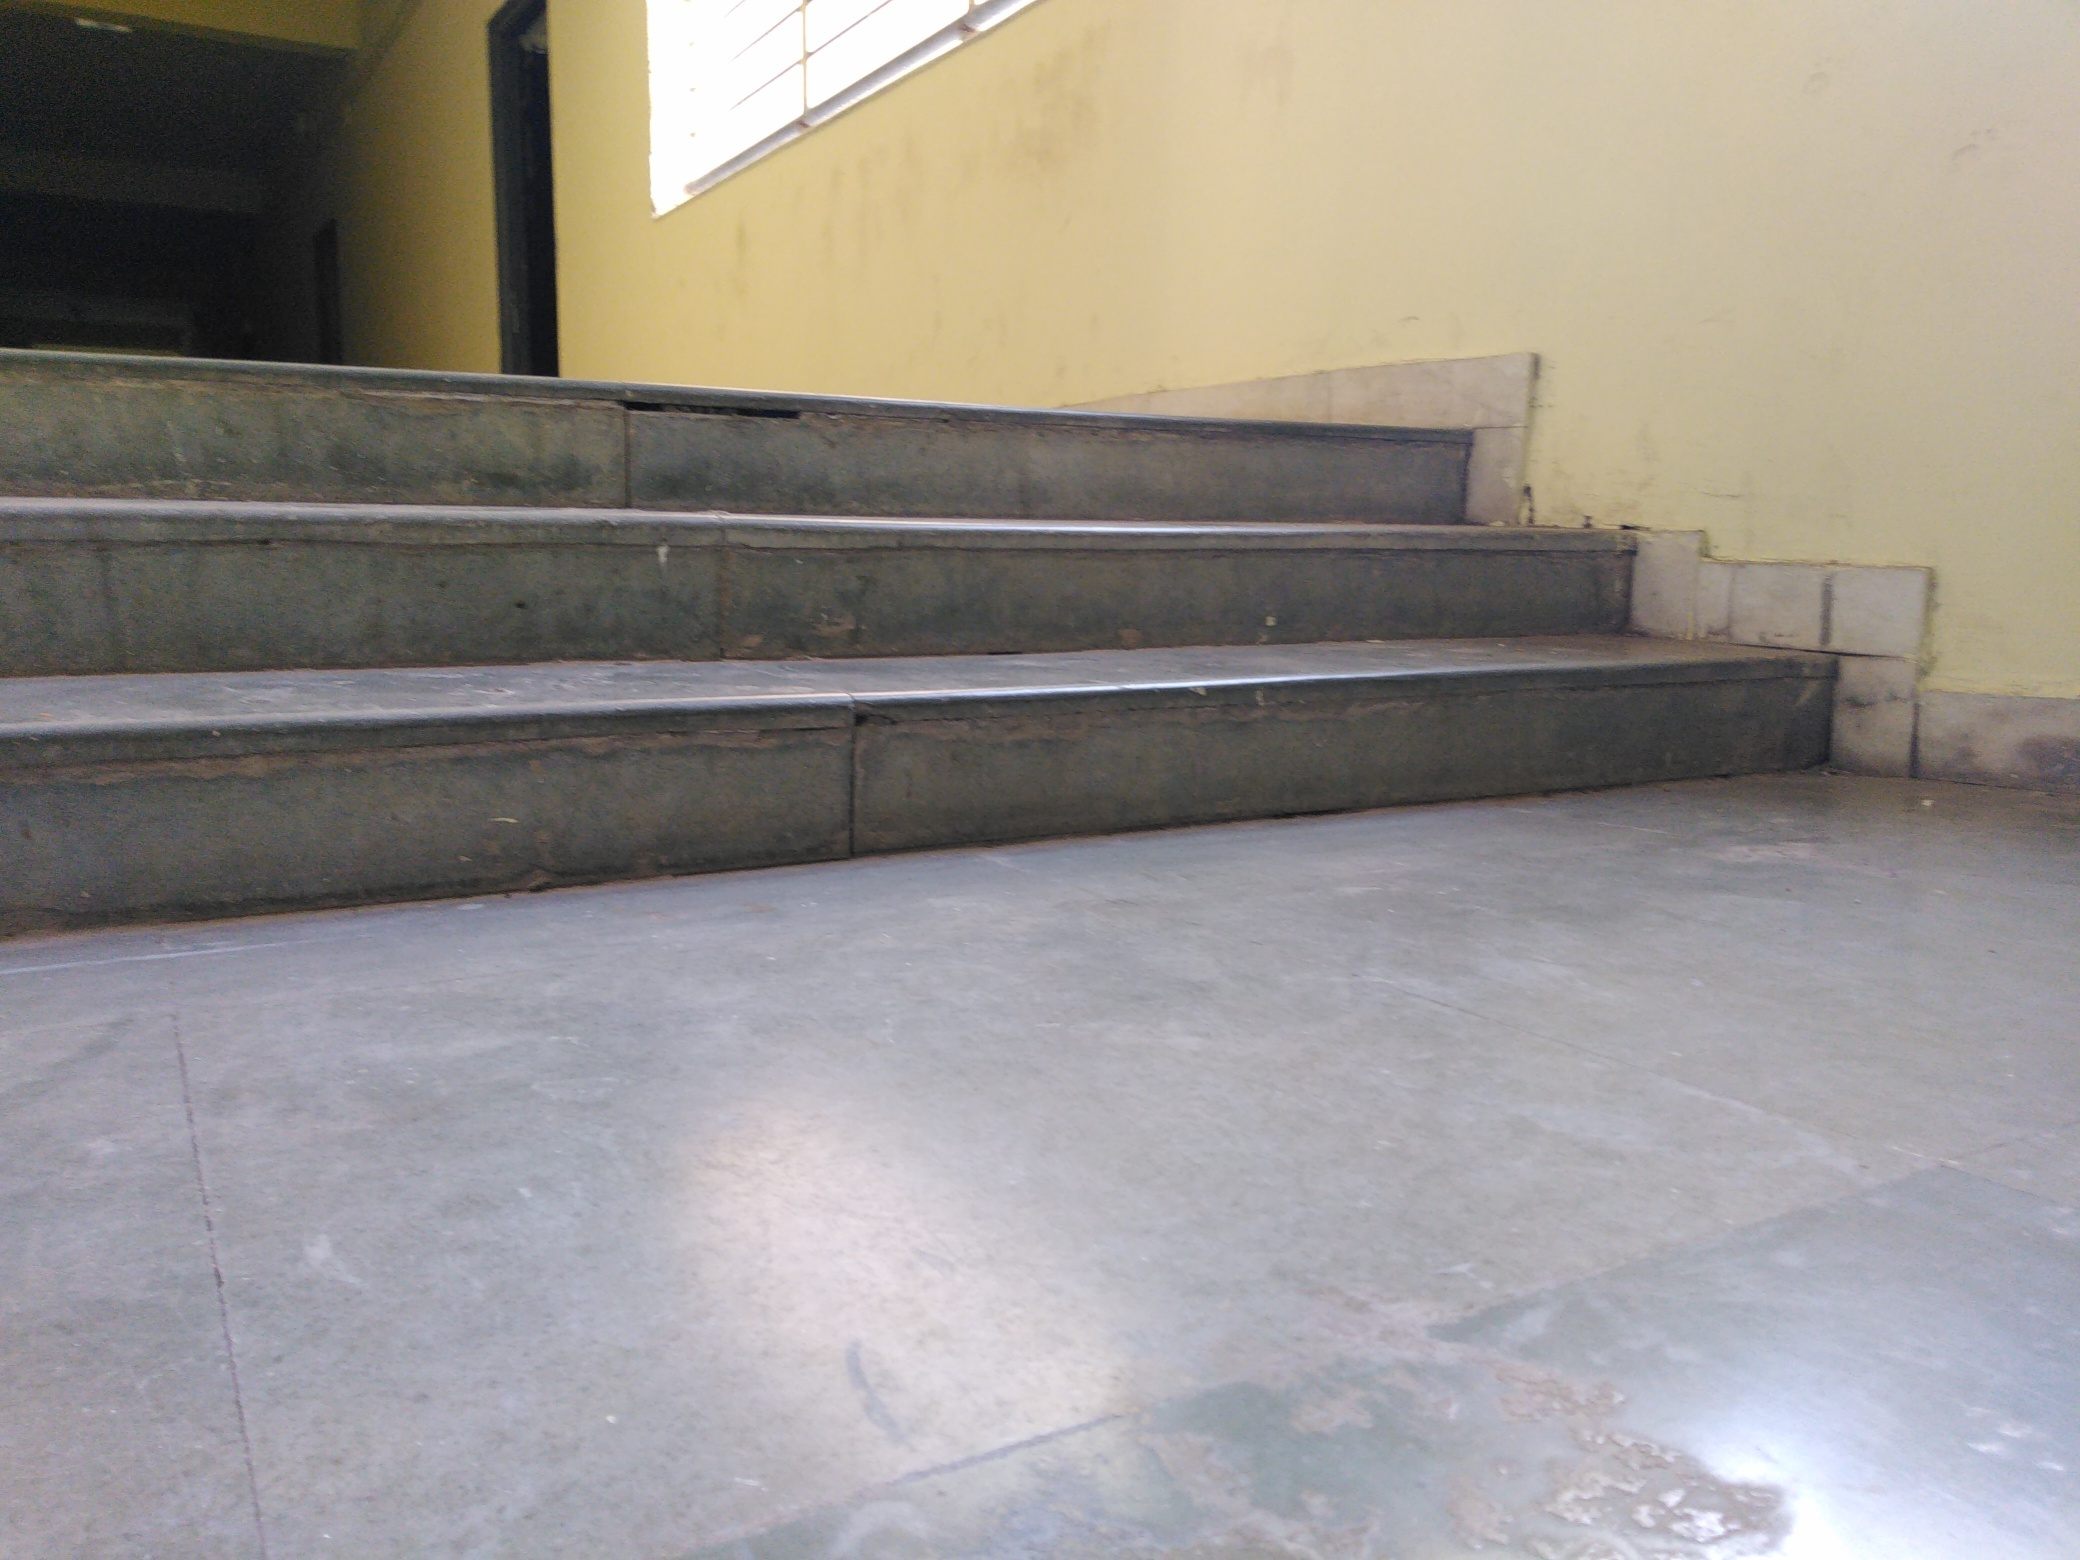stairs_up: (2, 405, 1497, 855)
